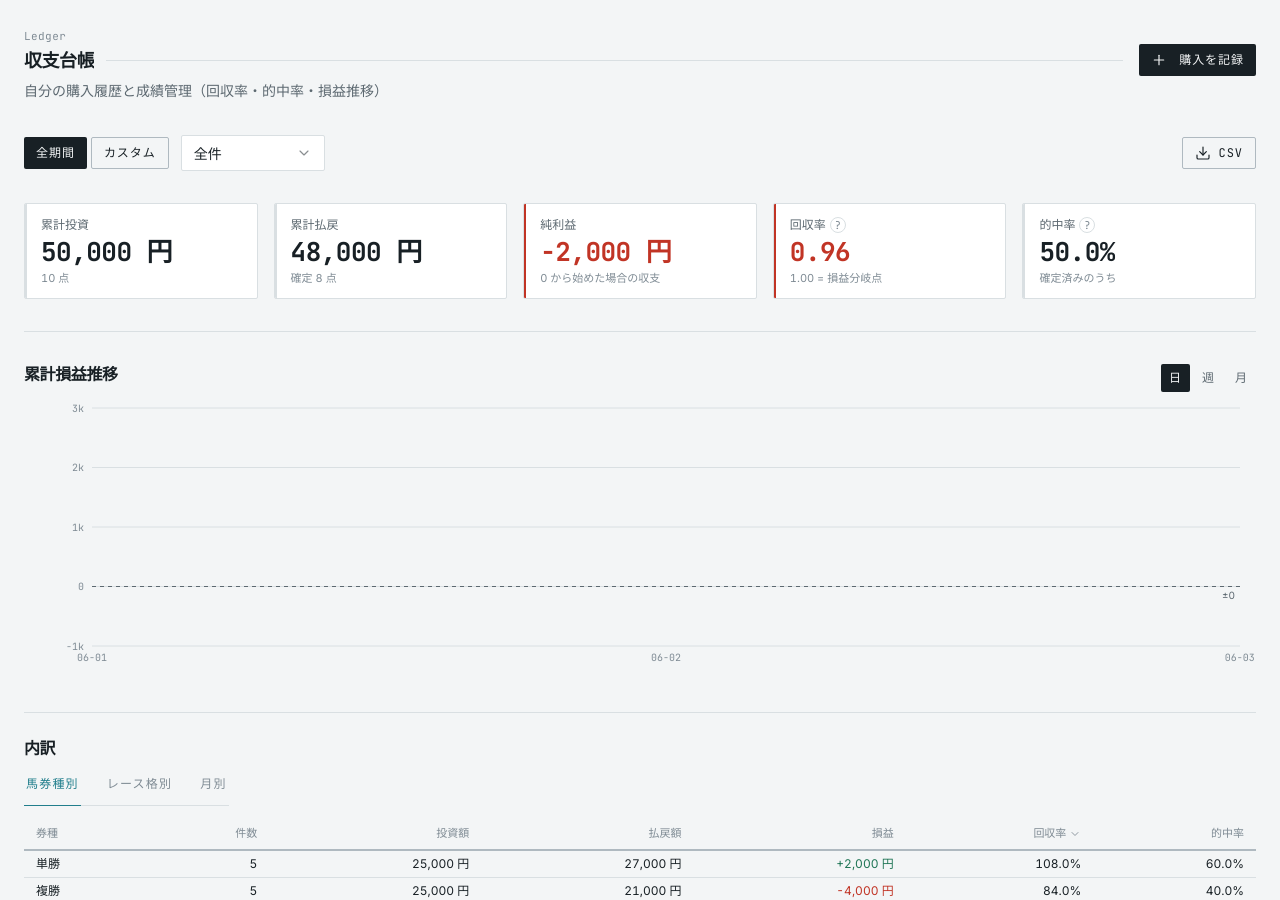
it: Ledger › カスタムで期間を絞れる
The image size is (1280, 900).
Expected: the text "累計投資" is shown, left=41, top=217, right=89, bottom=232
Click the button "カスタム" at [130, 153], box left=91, top=137, right=169, bottom=169
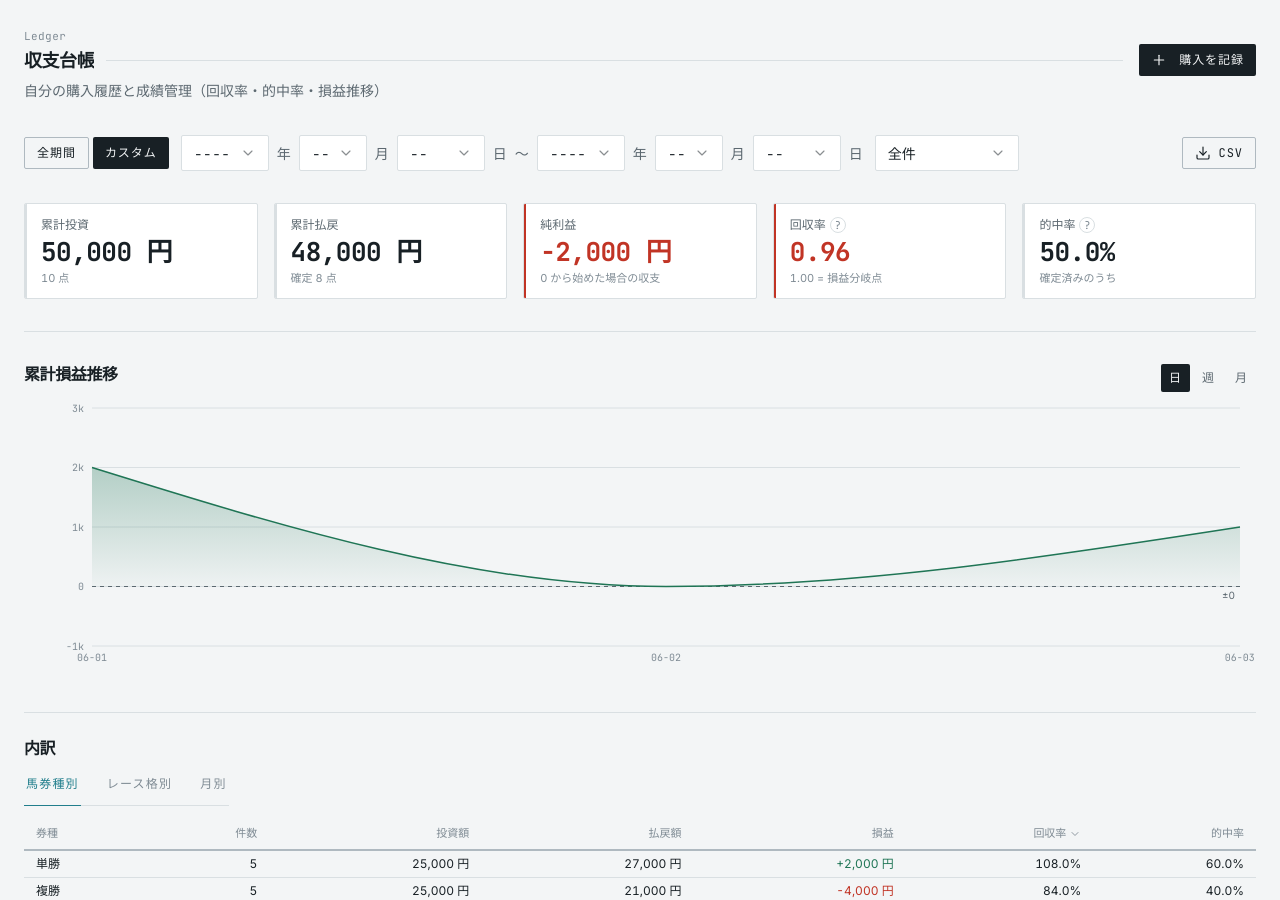
Now the 1st dropdown labelled "----" is shown, box left=181, top=135, right=269, bottom=171
